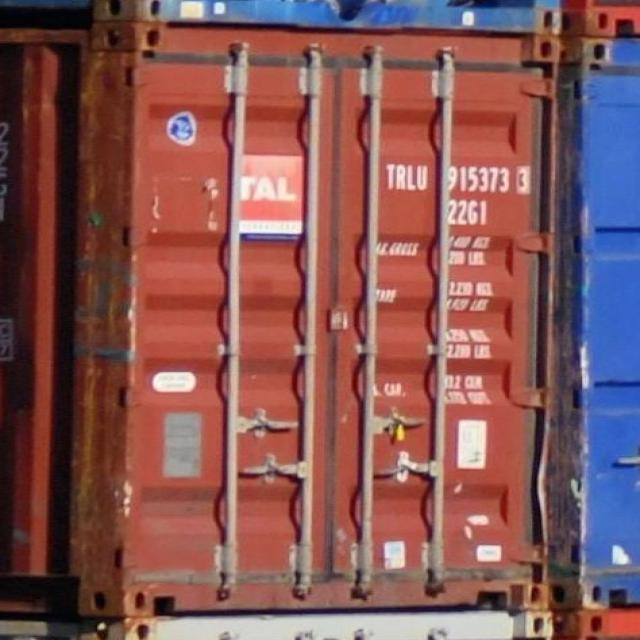ISO: (446, 200, 490, 227)
container_number: (387, 165, 530, 197)
